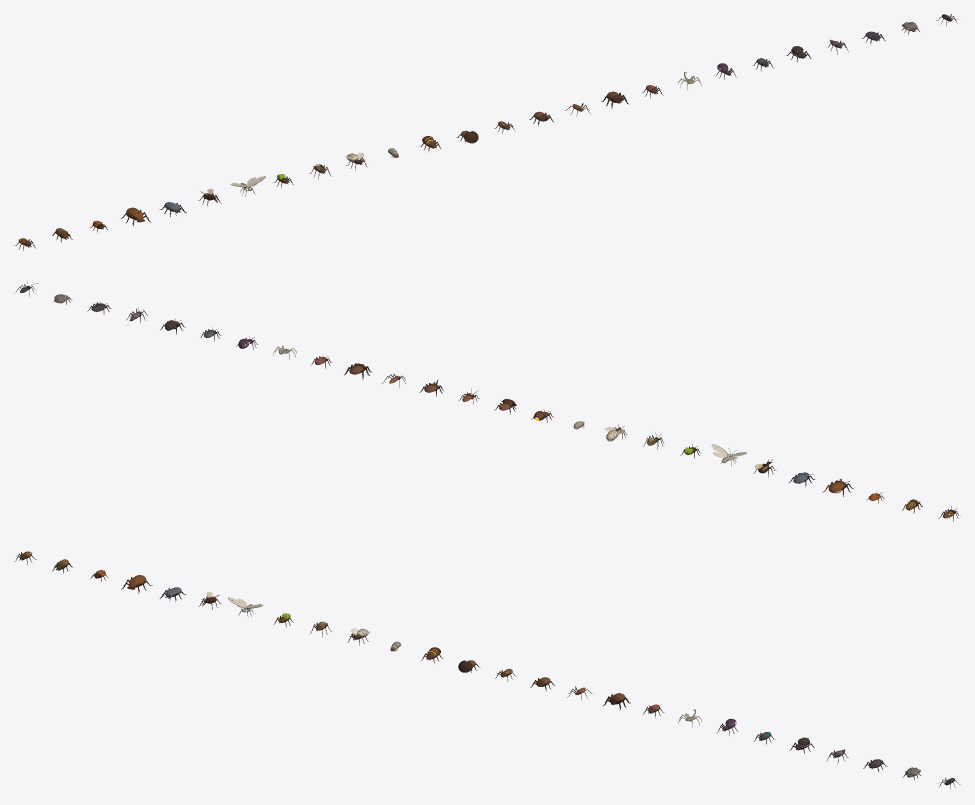
File: all_beetles.glb
The picture shows the model from 3 angles, top to bottom: view 1: azimuth 30°, elevation 25°; view 2: azimuth 150°, elevation 25°; view 3: azimuth 330°, elevation 25°; orthographic projection.
Bounding box in the file's own units: 178 × 2.48 × 5.73.
